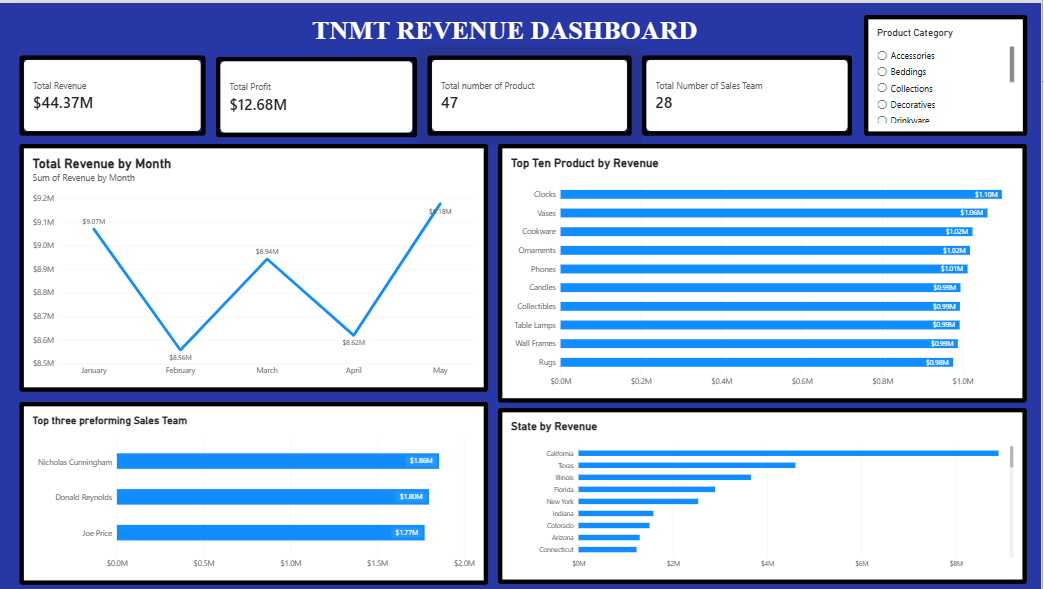

The page's visual inventory and layout, read from the dashboard file:
{"tool":"powerbi","page":{"name":"Dashboard","canvas":[1920,1080],"ordinal":4},"visuals":[{"type":"cardVisual","fields":{"Data":["Sales table.Total Revenue"]},"box":[41.7,97.2,341.7,147.2],"z":0},{"type":"cardVisual","fields":{"Data":["Sales table.Total Profit"]},"box":[402.8,100,369.4,147.2],"z":1000},{"type":"cardVisual","fields":{"Data":["Sales table.Total number of Product"]},"box":[791.7,97.2,375,147.2],"z":2000},{"type":"cardVisual","fields":{"Data":["Sales table.Total Number of Sales Team"]},"box":[1186.1,97.2,386.1,147.2],"z":3000},{"type":"lineChart","title":"Total Revenue by Month ","fields":{"Category":["Sales table.Sales Date.Variation.Date Hierarchy.Month"],"Y":["Sum(Sales table.Revenue)"]},"box":[41.7,258.3,861.1,455.6],"z":4000},{"type":"barChart","title":"Top Ten Product by Revenue","fields":{"Category":["Products.Product Name"],"Y":["Sum(Sales table.Revenue)"]},"box":[922.2,258.3,972.2,475],"z":5000},{"type":"barChart","title":"Top three preforming Sales Team ","fields":{"Category":["Sales Team.Sales Team"],"Y":["Sum(Sales table.Revenue)"]},"box":[41.7,733.3,861.1,336.1],"z":6000},{"type":"barChart","title":"State by Revenue","fields":{"Category":["Store Locations.state"],"Y":["Sum(Sales table.Revenue)"]},"box":[921.3,745.5,972.3,323.2],"z":7000},{"type":"textbox","box":[622.2,22.2,300,75],"z":7001},{"type":"textbox","box":[577.8,22.2,766.7,75],"z":7002},{"type":"listSlicer","fields":{"Values":["Products.Product Category"]},"box":[1594.4,22.2,300,222.2],"z":7003}]}

Visuals, with their boxes in screenshot pixels (x1, y1, x2, y2), scaled from the page's 1920x1080 canvas onto the 1044x589 screenshot:
cardVisual - Sales table.Total Revenue: Rect(23, 53, 208, 133)
cardVisual - Sales table.Total Profit: Rect(219, 55, 420, 135)
cardVisual - Sales table.Total number of Product: Rect(430, 53, 634, 133)
cardVisual - Sales table.Total Number of Sales Team: Rect(645, 53, 855, 133)
"Total Revenue by Month " lineChart: Rect(23, 141, 491, 389)
"Top Ten Product by Revenue" barChart: Rect(501, 141, 1030, 400)
"Top three preforming Sales Team " barChart: Rect(23, 400, 491, 583)
"State by Revenue" barChart: Rect(501, 407, 1030, 583)
textbox: Rect(338, 12, 501, 53)
textbox: Rect(314, 12, 731, 53)
listSlicer - Products.Product Category: Rect(867, 12, 1030, 133)
